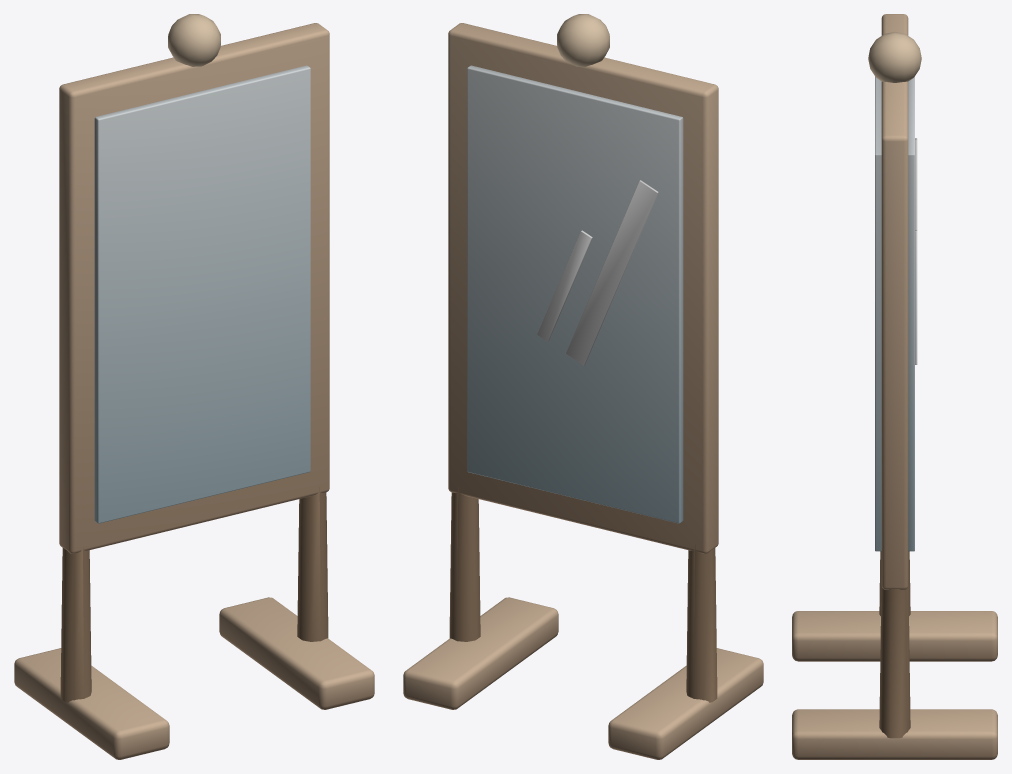
File: standing_mirror.glb
3 views of the same model, side by side, from view 1: azimuth 30°, elevation 25°; view 2: azimuth 150°, elevation 25°; view 3: azimuth 270°, elevation 25° (orthographic).
Parts seen in each view (by area): view 1: standing_mirror; view 2: standing_mirror; view 3: standing_mirror.
Boxes of the visible parts, bbox=[...] form: standing_mirror: bbox=[14, 14, 374, 759]; standing_mirror: bbox=[403, 14, 763, 759]; standing_mirror: bbox=[792, 14, 997, 759].
Size of the model in its own units: 0.6666 by 1.64 by 0.46.
